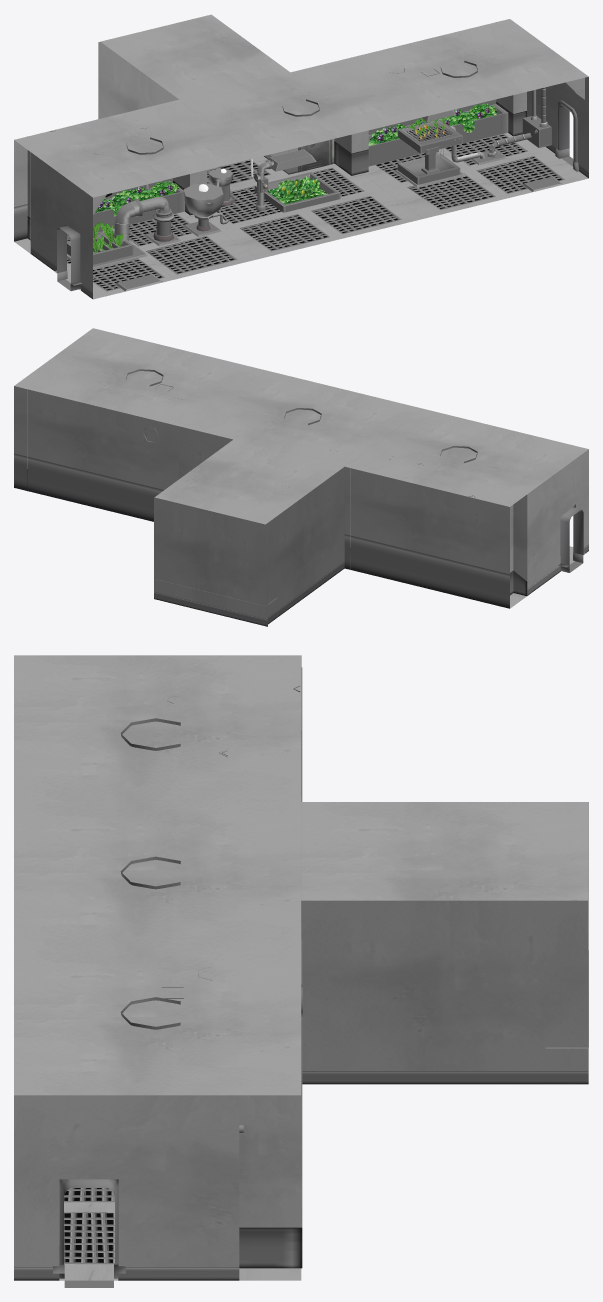
Rendered from MSH_Hydroponic_farm_room_L2_R3_optimized.fbx.
3 renders of one model, top to bottom at view 1: azimuth 30°, elevation 25°; view 2: azimuth 150°, elevation 25°; view 3: azimuth 270°, elevation 25°, orthographic. The views are drawn at different scales.
Parts seen in each view (by area): view 1: lightmap0, lightmap1, lightmap-1; view 2: lightmap0, lightmap1, lightmap-1; view 3: lightmap0, lightmap1, lightmap-1.
Part boxes in pixels (left/top/right/bottom): lightmap0: left=14, top=14, right=588, bottom=299; lightmap1: left=27, top=60, right=584, bottom=291; lightmap-1: left=57, top=105, right=573, bottom=291; lightmap0: left=14, top=328, right=588, bottom=626; lightmap1: left=27, top=369, right=527, bottom=617; lightmap-1: left=560, top=507, right=583, bottom=572; lightmap0: left=14, top=655, right=588, bottom=1280; lightmap1: left=120, top=667, right=588, bottom=1268; lightmap-1: left=64, top=1179, right=114, bottom=1287.
Bounding box in the file's own units: 30.91 × 6.03 × 16.51.
